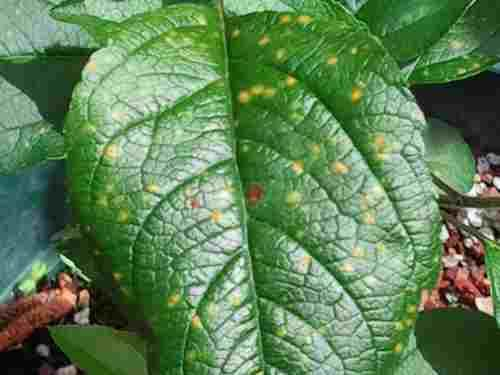Apple rust leaf: (63, 7, 455, 375)
